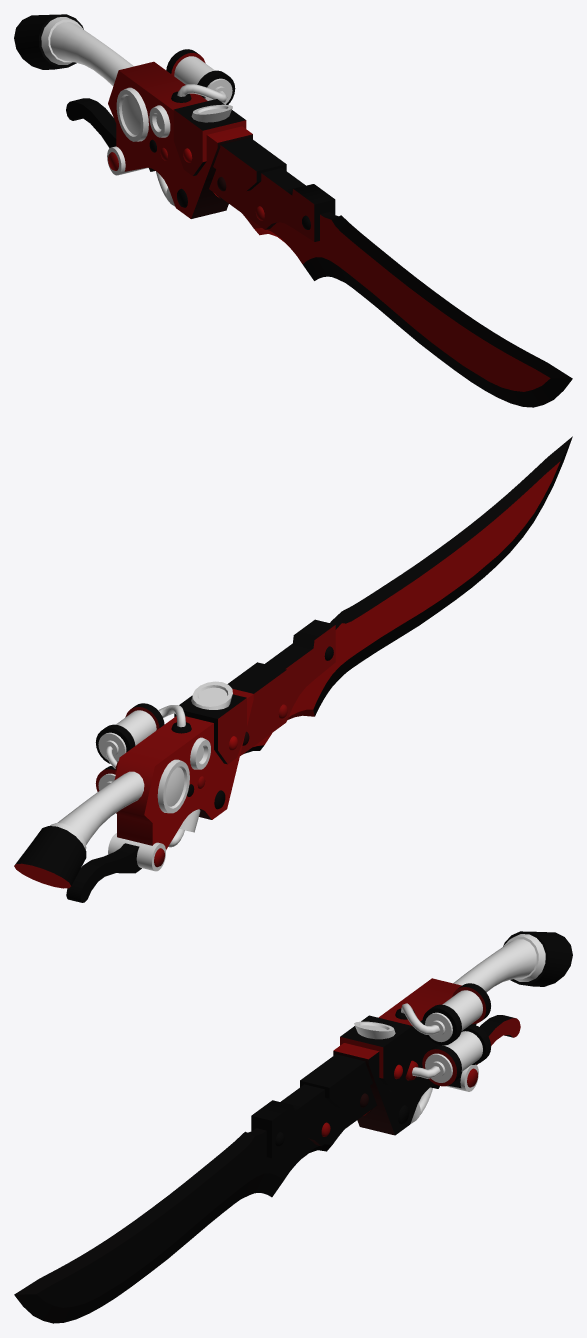
Rendered from spsword_low2.fbx.
3 renders of one model, top to bottom at view 1: azimuth 30°, elevation 25°; view 2: azimuth 150°, elevation 25°; view 3: azimuth 330°, elevation 25°, orthographic.
Parts seen in each view (by area): view 1: Blade_low, Part3_low, Part1_low, Handlemain_low, Part2_low, Part4_low, Handle3_low, Monometr_low, Trigger_low, cyl2Part1_low, Bolts_low, cyl2Main_low (+5 smaller); view 2: Blade_low, Part3_low, Part1_low, Handle3_low, Handlemain_low, Part2_low, Trigger_low, Part4_low, Monometr_low, Tube1_low, cyl2Part1_low, Triggercyl_low (+4 smaller); view 3: Blade_low, Part3_low, Part1_low, Handlemain_low, Part2_low, Part4_low, Handle3_low, cyl2Part1_low, cylPart1_low, Pipes_low, cyl2Main_low, cylMain_low (+5 smaller).
Part boxes in pixels (bbox=[...]): Blade_low: bbox=[213, 192, 572, 407]; Part3_low: bbox=[108, 61, 252, 218]; Part1_low: bbox=[209, 168, 335, 241]; Handlemain_low: bbox=[50, 22, 133, 85]; Part2_low: bbox=[213, 137, 286, 191]; Part4_low: bbox=[173, 99, 246, 161]; Handle3_low: bbox=[14, 14, 83, 69]; Monometr_low: bbox=[116, 87, 148, 141]; Trigger_low: bbox=[66, 98, 116, 148]; cyl2Part1_low: bbox=[166, 49, 235, 104]; Bolts_low: bbox=[108, 148, 310, 229]; cyl2Main_low: bbox=[174, 56, 214, 84]; Blade_low: bbox=[244, 436, 572, 753]; Part3_low: bbox=[114, 688, 253, 849]; Part1_low: bbox=[240, 619, 335, 755]; Handle3_low: bbox=[14, 826, 86, 888]; Handlemain_low: bbox=[57, 771, 144, 844]; Part2_low: bbox=[227, 662, 286, 725]; Trigger_low: bbox=[66, 843, 141, 902]; Part4_low: bbox=[174, 694, 246, 750]; Monometr_low: bbox=[157, 759, 189, 813]; Tube1_low: bbox=[179, 681, 232, 832]; cyl2Part1_low: bbox=[95, 703, 164, 763]; Triggercyl_low: bbox=[108, 833, 165, 871]; Blade_low: bbox=[14, 1109, 372, 1323]; Part3_low: bbox=[333, 978, 476, 1135]; Part1_low: bbox=[251, 1084, 377, 1158]; Handlemain_low: bbox=[453, 939, 536, 992]; Part2_low: bbox=[300, 1054, 372, 1107]; Part4_low: bbox=[340, 1015, 412, 1078]; Handle3_low: bbox=[503, 931, 572, 986]; cyl2Part1_low: bbox=[422, 983, 490, 1045]; cylPart1_low: bbox=[422, 1024, 490, 1086]; Pipes_low: bbox=[401, 1003, 440, 1114]; cyl2Main_low: bbox=[442, 990, 482, 1030]; cylMain_low: bbox=[442, 1031, 482, 1071].
Size of the model in its own units: 38.92 by 59.69 by 462.
